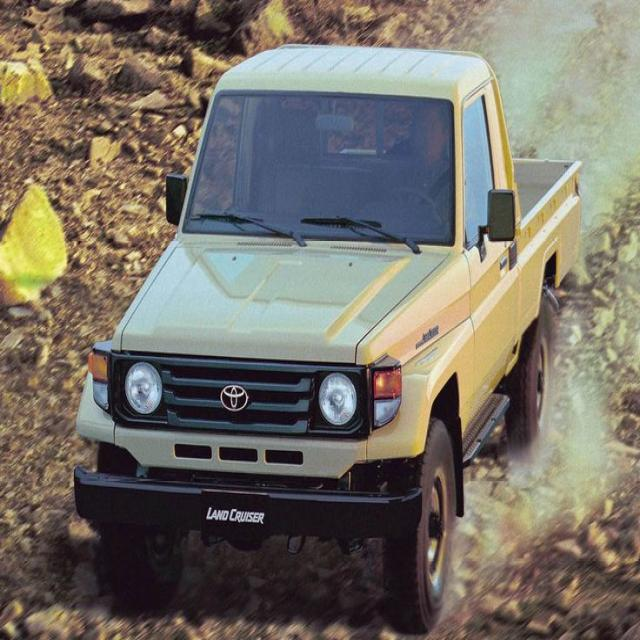light_vehicle: (66, 37, 590, 630)
